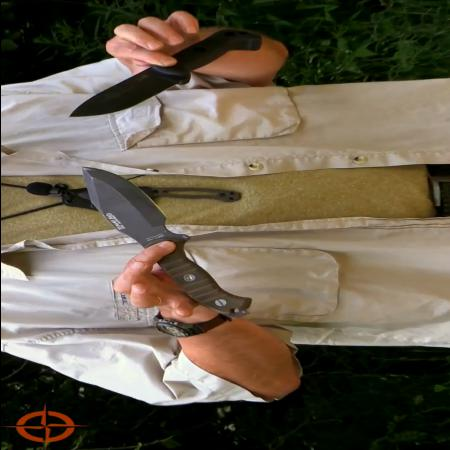long weapon: (72, 162, 256, 318), (59, 26, 263, 120)
